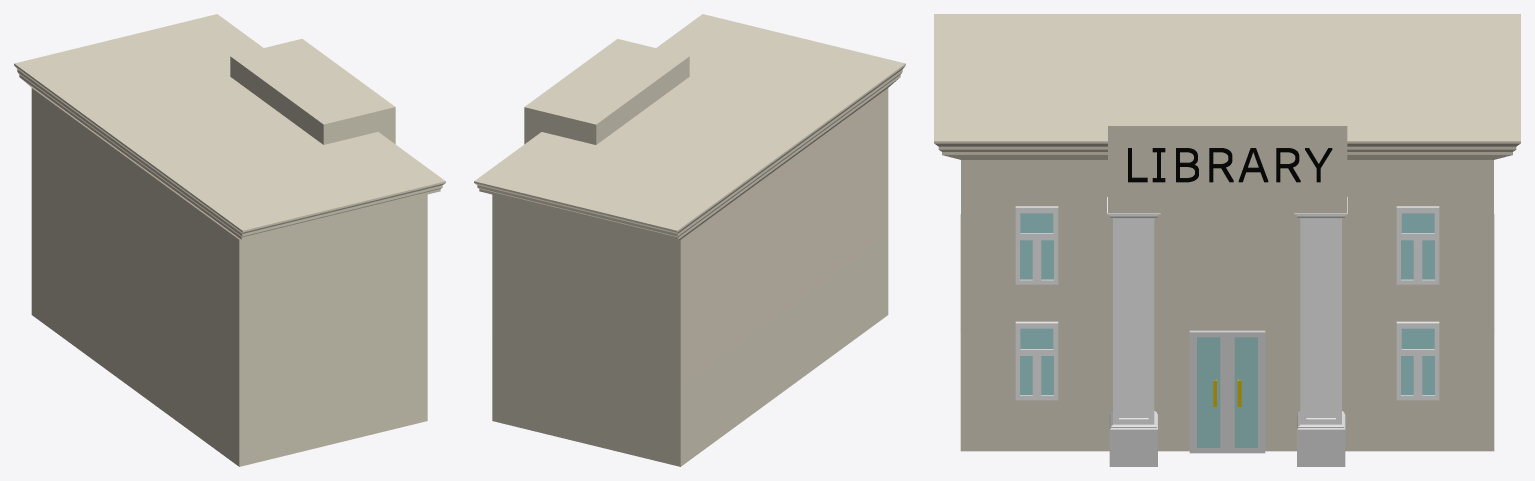
Rendered from Library.fbx.
The picture shows the model from 3 angles, left to right: view 1: azimuth 30°, elevation 25°; view 2: azimuth 150°, elevation 25°; view 3: azimuth 270°, elevation 25°; orthographic projection. The views are drawn at different scales.
Visible parts, largest first — view 1: building; view 2: building; view 3: building.
Boxes of the visible parts, x1,y1,x2,y2 form: building: (14,14,445,466); building: (474,14,905,466); building: (934,14,1520,466).
Size of the model in its own units: 310 by 353 by 550.
